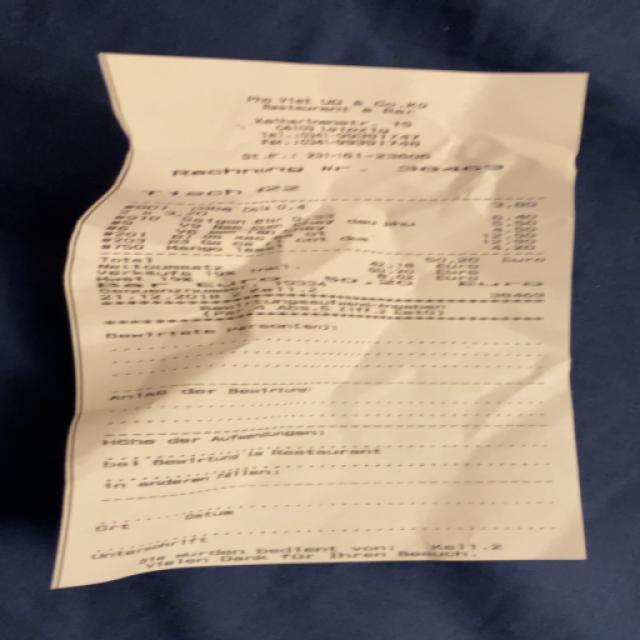document: (53, 55, 586, 588)
